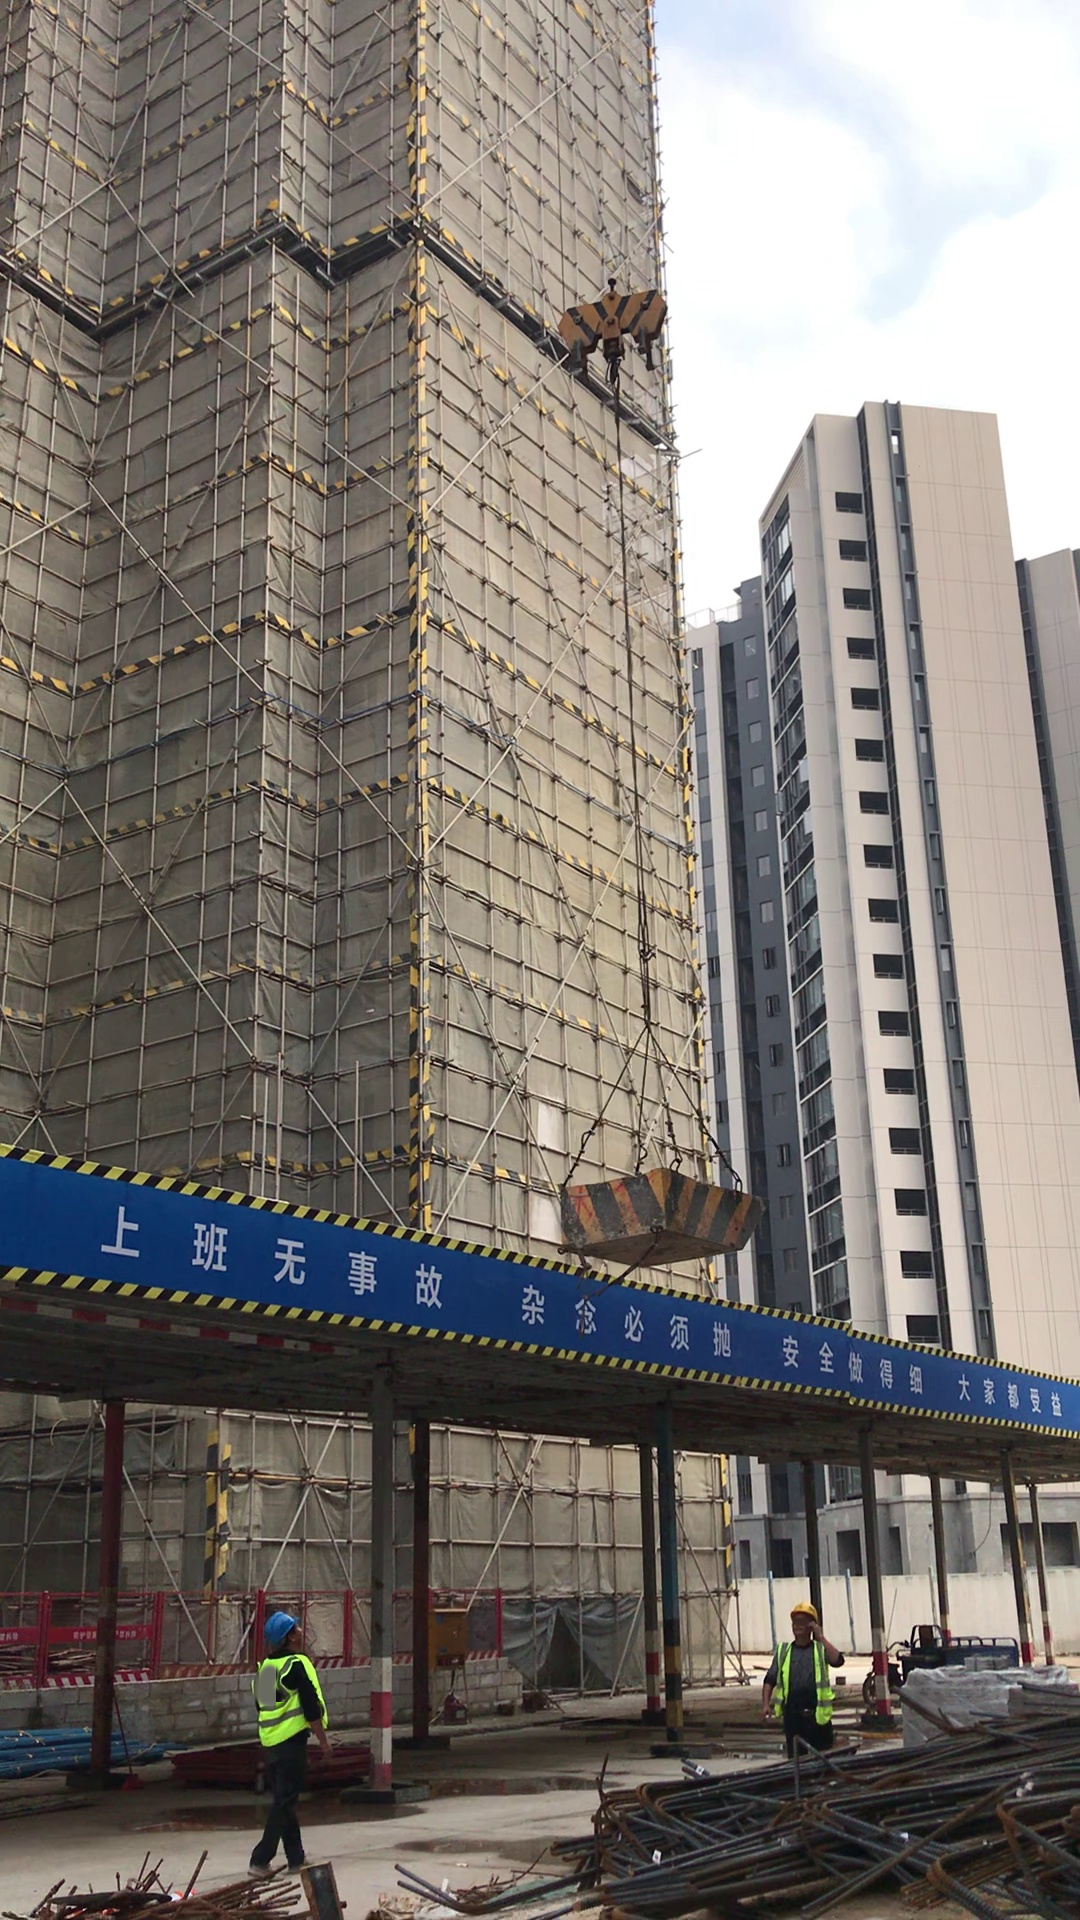ebox: (433, 1610, 478, 1710)
fence: (1, 1586, 512, 1692)
helmet: (256, 1607, 305, 1641), (783, 1599, 828, 1620)
hook: (539, 261, 676, 384)
hopper: (546, 1151, 763, 1271)
person: (226, 1596, 343, 1880), (743, 1602, 857, 1755)
slogan: (26, 1161, 1057, 1430)
vest: (770, 1639, 836, 1728), (257, 1656, 322, 1746)
